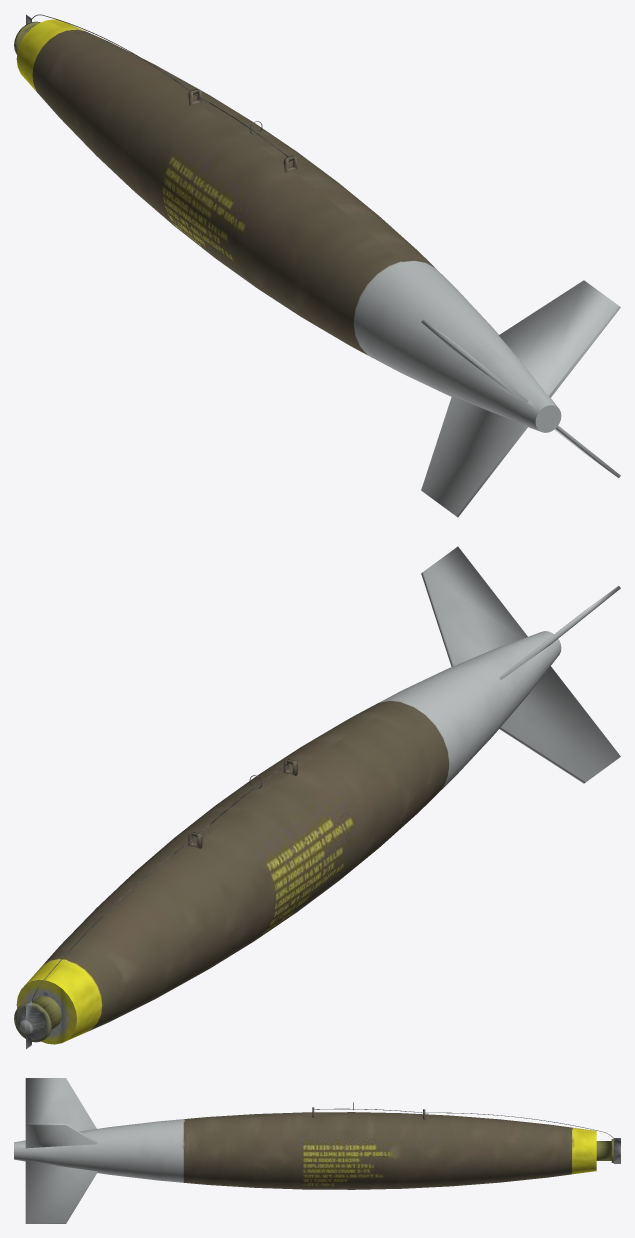
3 renders of one model, top to bottom at view 1: azimuth 30°, elevation 25°; view 2: azimuth 150°, elevation 25°; view 3: azimuth 270°, elevation 25°, orthographic. The views are drawn at different scales.
Parts seen in each view (by area): view 1: mk83_body; view 2: mk83_body; view 3: mk83_body.
Part boxes in pixels (x1,y1,x2,y2): mk83_body: (14, 14, 620, 517); mk83_body: (14, 546, 620, 1049); mk83_body: (14, 1078, 620, 1223).
Bounding box in the file's own units: 0.5574 × 0.5574 × 3.06.
Materials: 1 (1 with a texture image).
